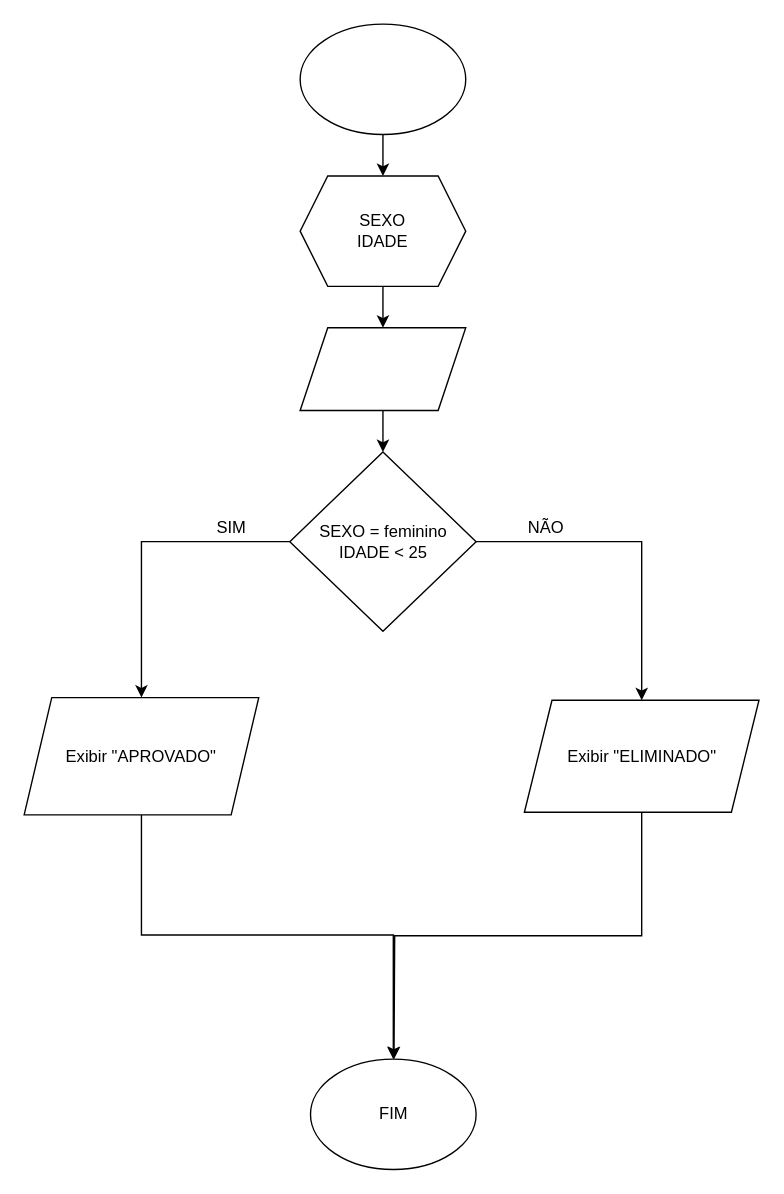
Image size: 784x1194. Some labels were removed from this diagram. The centre of each missing label's shape, as x and y in pixels:
INICIO: point (382, 79)
Inserir SEXO e IDADE: point (382, 368)
